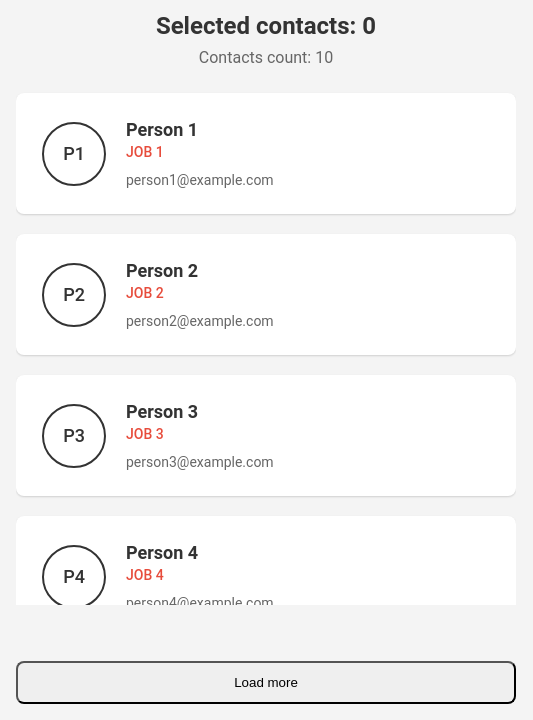
Test case: App › loads first page and appends next page on Load more
Check: the text "Selected contacts: 0" is shown, box top-left (156, 12), bottom-right (376, 40)
Check: the text "Contacts count: 10" is shown, box top-left (199, 48), bottom-right (333, 67)
Click the button "Load more": (266,682) top-left (16, 661), bottom-right (516, 704)
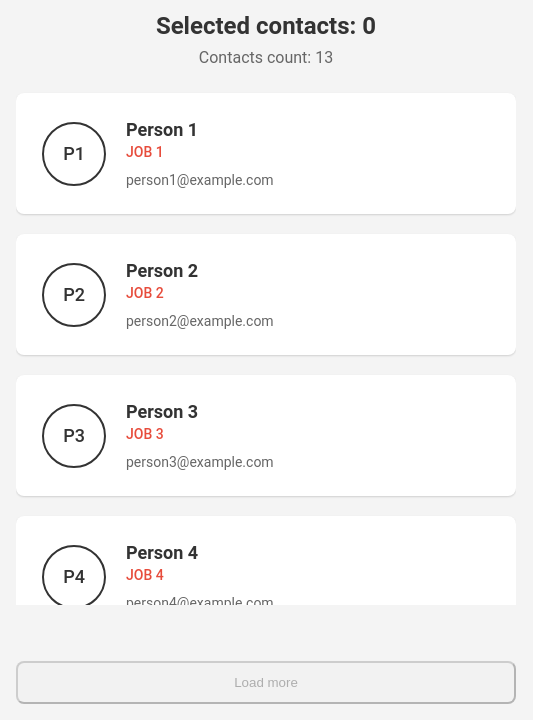
Check: the text "Contacts count: 13" is shown, box top-left (199, 48), bottom-right (333, 67)
Check: the button "Load more" is disabled, box top-left (16, 661), bottom-right (516, 704)
